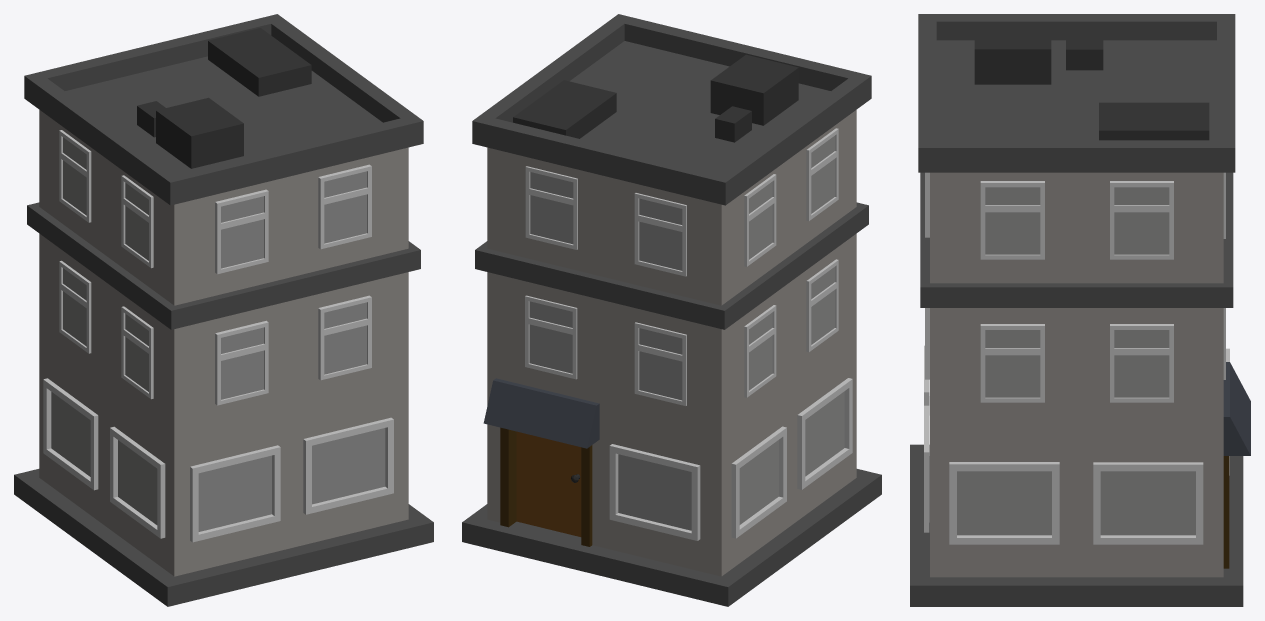
File: Buliding2.fbx
The picture shows the model from 3 angles, left to right: view 1: azimuth 30°, elevation 25°; view 2: azimuth 150°, elevation 25°; view 3: azimuth 270°, elevation 25°; orthographic projection. The views are drawn at different scales.
Parts seen in each view (by area): view 1: Buliding; view 2: Buliding; view 3: Buliding.
Part boxes in pixels (x1,y1,x2,y2): Buliding: (14,14,433,606); Buliding: (462,14,881,606); Buliding: (910,14,1250,606).
Bounding box in the file's own units: 3008 × 3075 × 4708.
